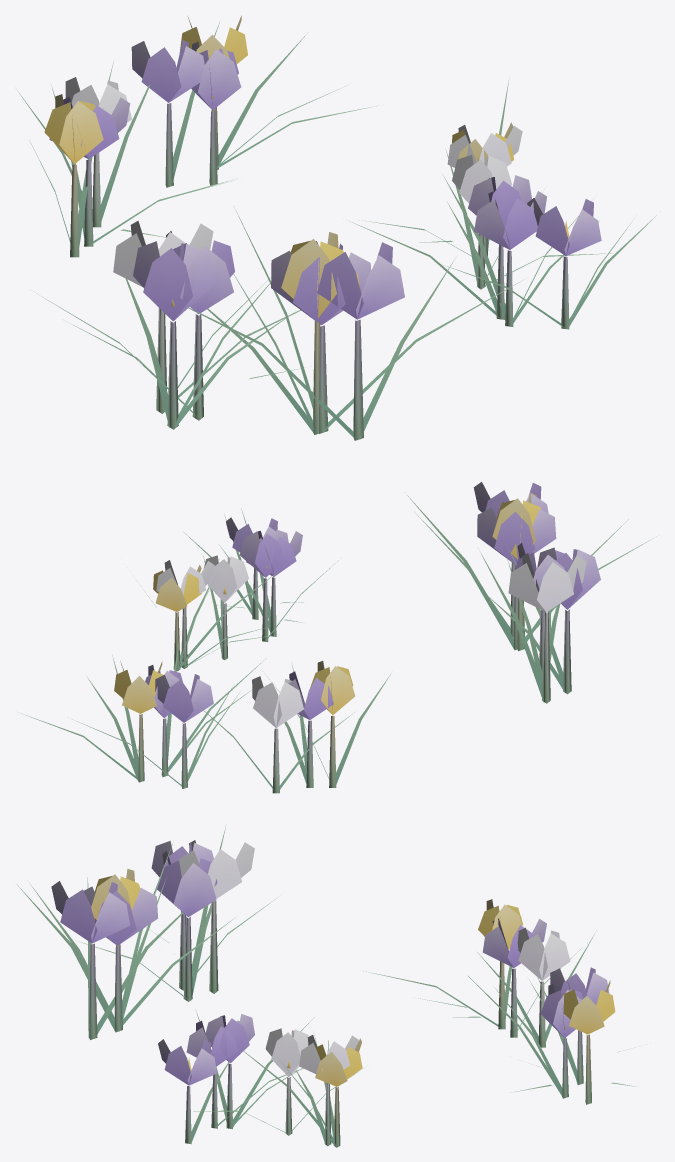
Rendered from crocus_patch_b.glb.
The picture shows the model from 3 angles, top to bottom: view 1: azimuth 30°, elevation 25°; view 2: azimuth 150°, elevation 25°; view 3: azimuth 270°, elevation 25°; orthographic projection. The views are drawn at different scales.
Parts seen in each view (by area): view 1: soft; view 2: soft; view 3: soft.
Boxes of the visible parts, left/top/right/bottom form: soft: left=17, top=15, right=660, bottom=440; soft: left=21, top=482, right=656, bottom=793; soft: left=16, top=825, right=641, bottom=1147.
Bounding box in the file's own units: 0.7044 × 0.2372 × 0.8077.
